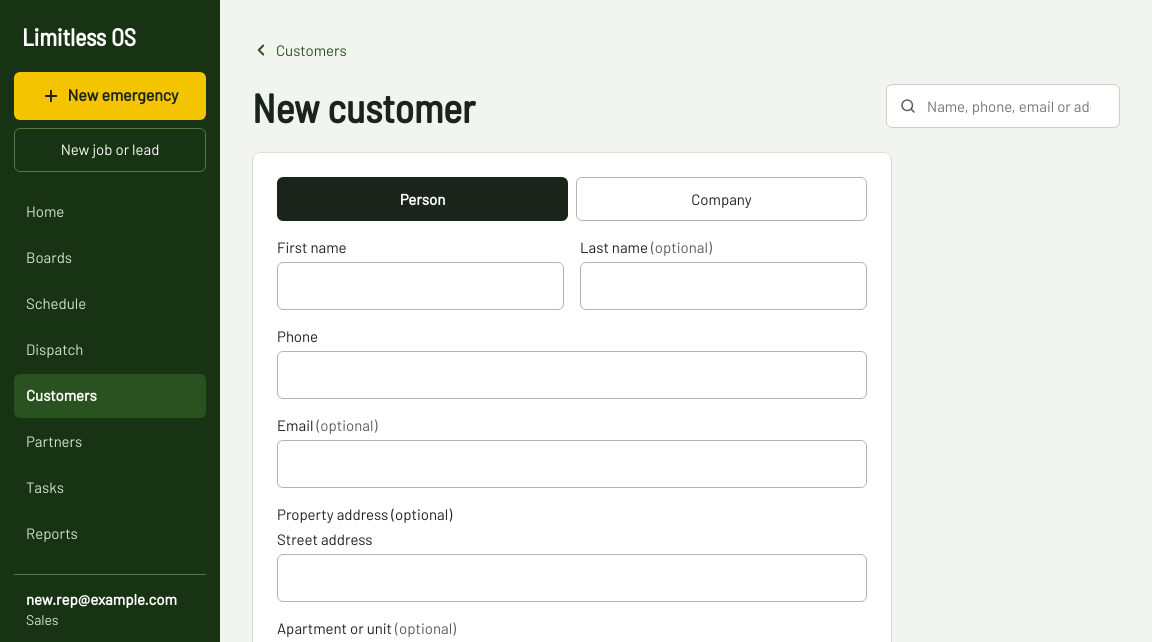
it: New customer › warns when the phone number already belongs to someone and offers to open them
Type "1 (610) 555-0101" into the field labelled "Phone".
click(572, 375); type("1 (610) 555-0101")  # box [277,351,867,399]
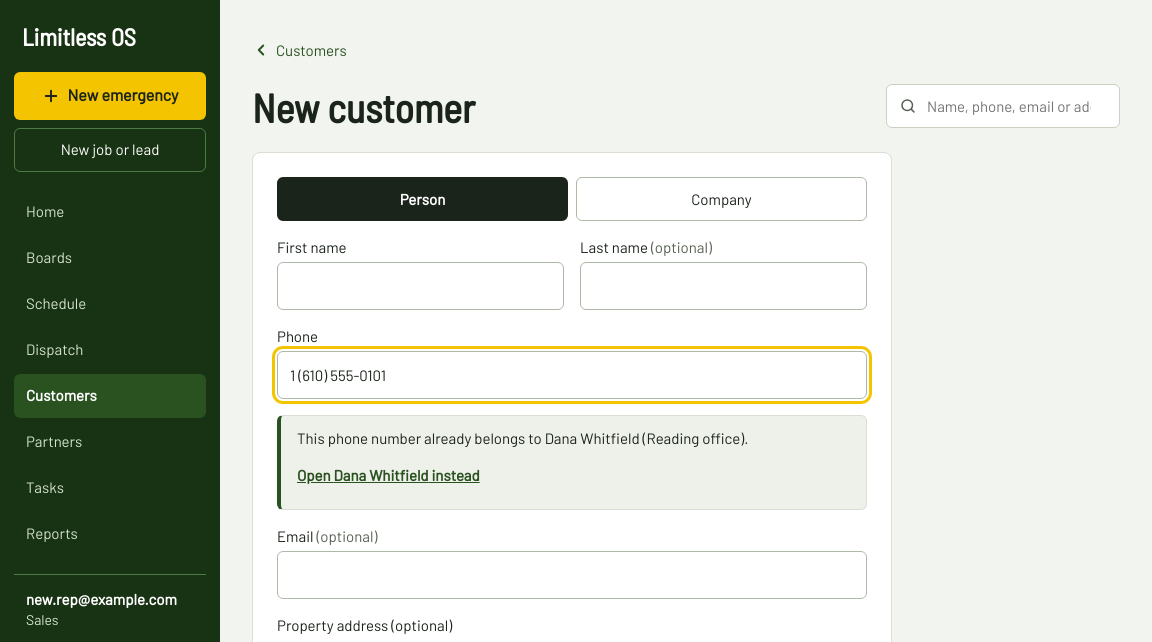
Check: the message shows "This phone number already belongs to Dana Whitfield (Reading office).", box [297,429,748,447]
Click the link "Open Dana Whitfield instead".
click(388, 474)  # box [297,466,480,484]
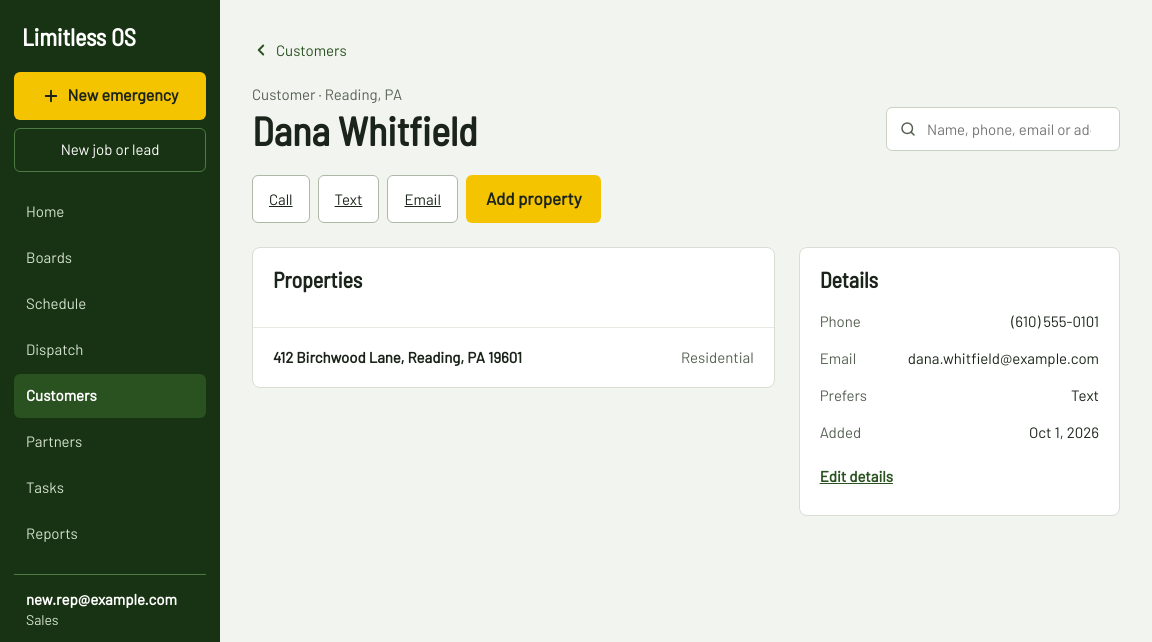
Check: the heading "Dana Whitfield" is shown, box [252,109,477,151]
